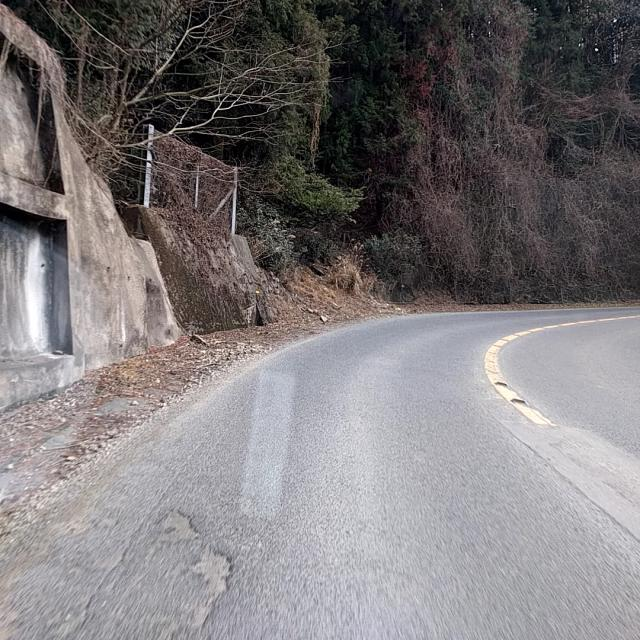pothole: (138, 493, 240, 639)
